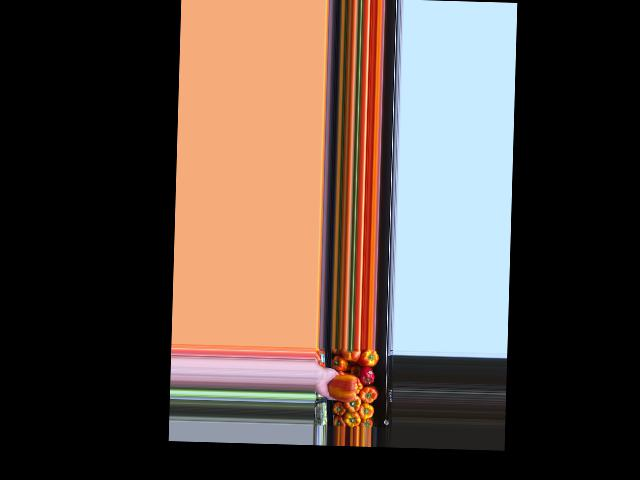bell_pepper: (333, 354, 348, 372)
